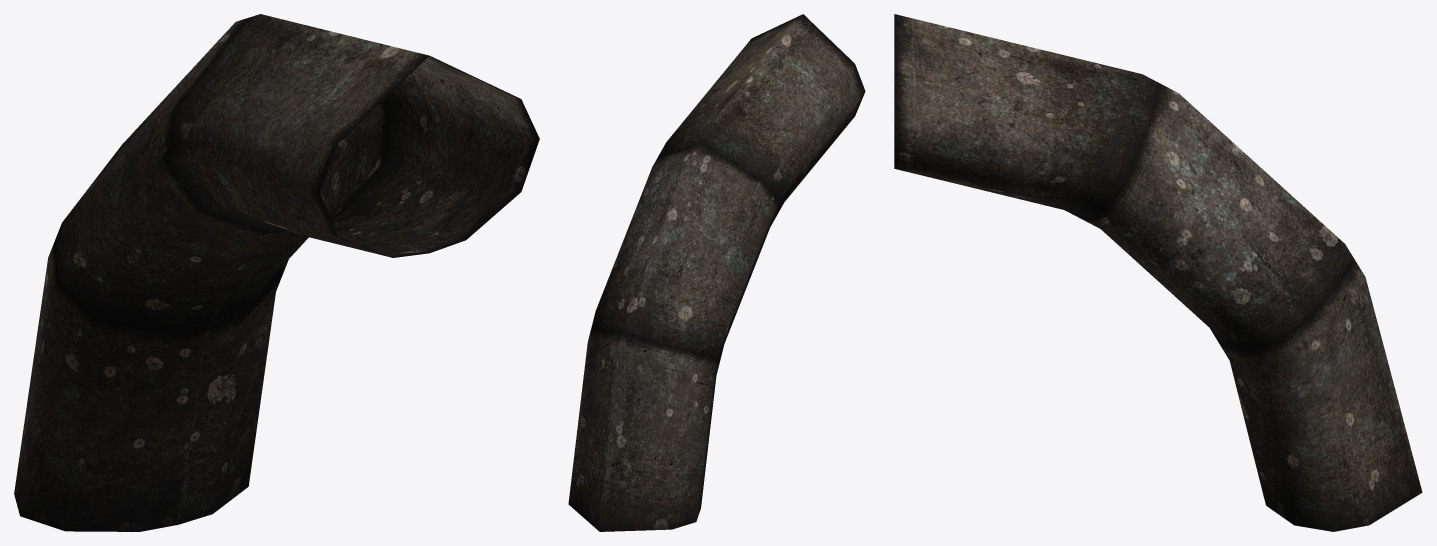
File: large_90_down.dae
3 views of the same model, side by side, from view 1: azimuth 30°, elevation 25°; view 2: azimuth 150°, elevation 25°; view 3: azimuth 270°, elevation 25° (orthographic). The views are drawn at different scales.
Visible parts, largest first — view 1: tentacle_large_90_down; view 2: tentacle_large_90_down; view 3: tentacle_large_90_down.
Boxes of the visible parts, bbox=[...] form: tentacle_large_90_down: bbox=[14, 14, 539, 531]; tentacle_large_90_down: bbox=[568, 14, 865, 531]; tentacle_large_90_down: bbox=[894, 14, 1422, 531].
Bounding box in the file's own units: 0.52 × 1.47 × 1.47.
